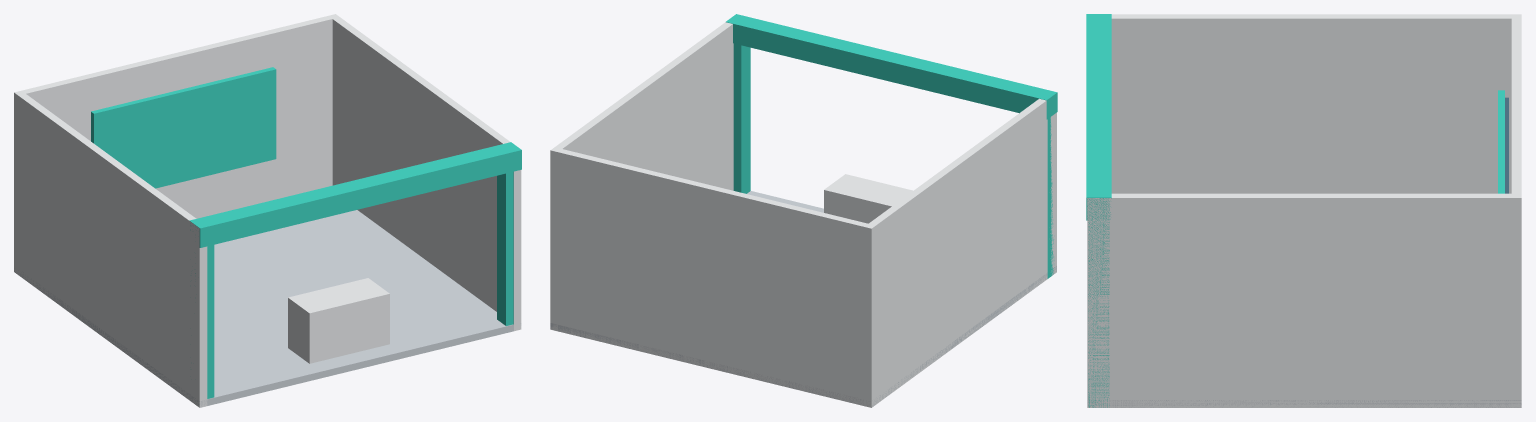
3 views of the same model, side by side, from view 1: azimuth 30°, elevation 25°; view 2: azimuth 150°, elevation 25°; view 3: azimuth 270°, elevation 25° (orthographic). The views are drawn at different scales.
Parts seen in each view (by area): view 1: Exhibition Booth Concept; view 2: Exhibition Booth Concept; view 3: Exhibition Booth Concept.
Part boxes in pixels (bbox=[...]): Exhibition Booth Concept: bbox=[14, 14, 521, 407]; Exhibition Booth Concept: bbox=[550, 14, 1057, 407]; Exhibition Booth Concept: bbox=[1086, 14, 1521, 407].
Size of the model in its own units: 6 by 3.2 by 6.02.
